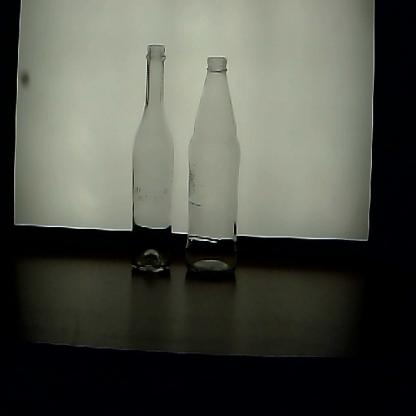Can: (184, 56, 240, 284), (130, 44, 178, 270)
